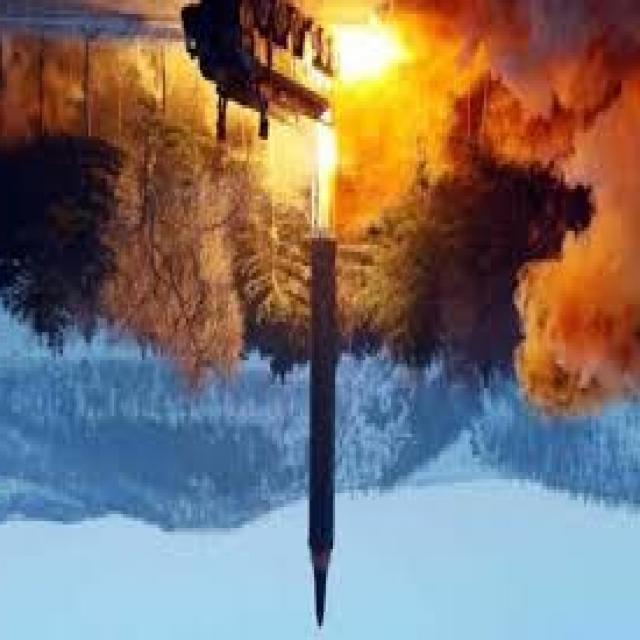Missile: (298, 231, 344, 640)
